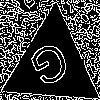G: (27, 39, 76, 98)
